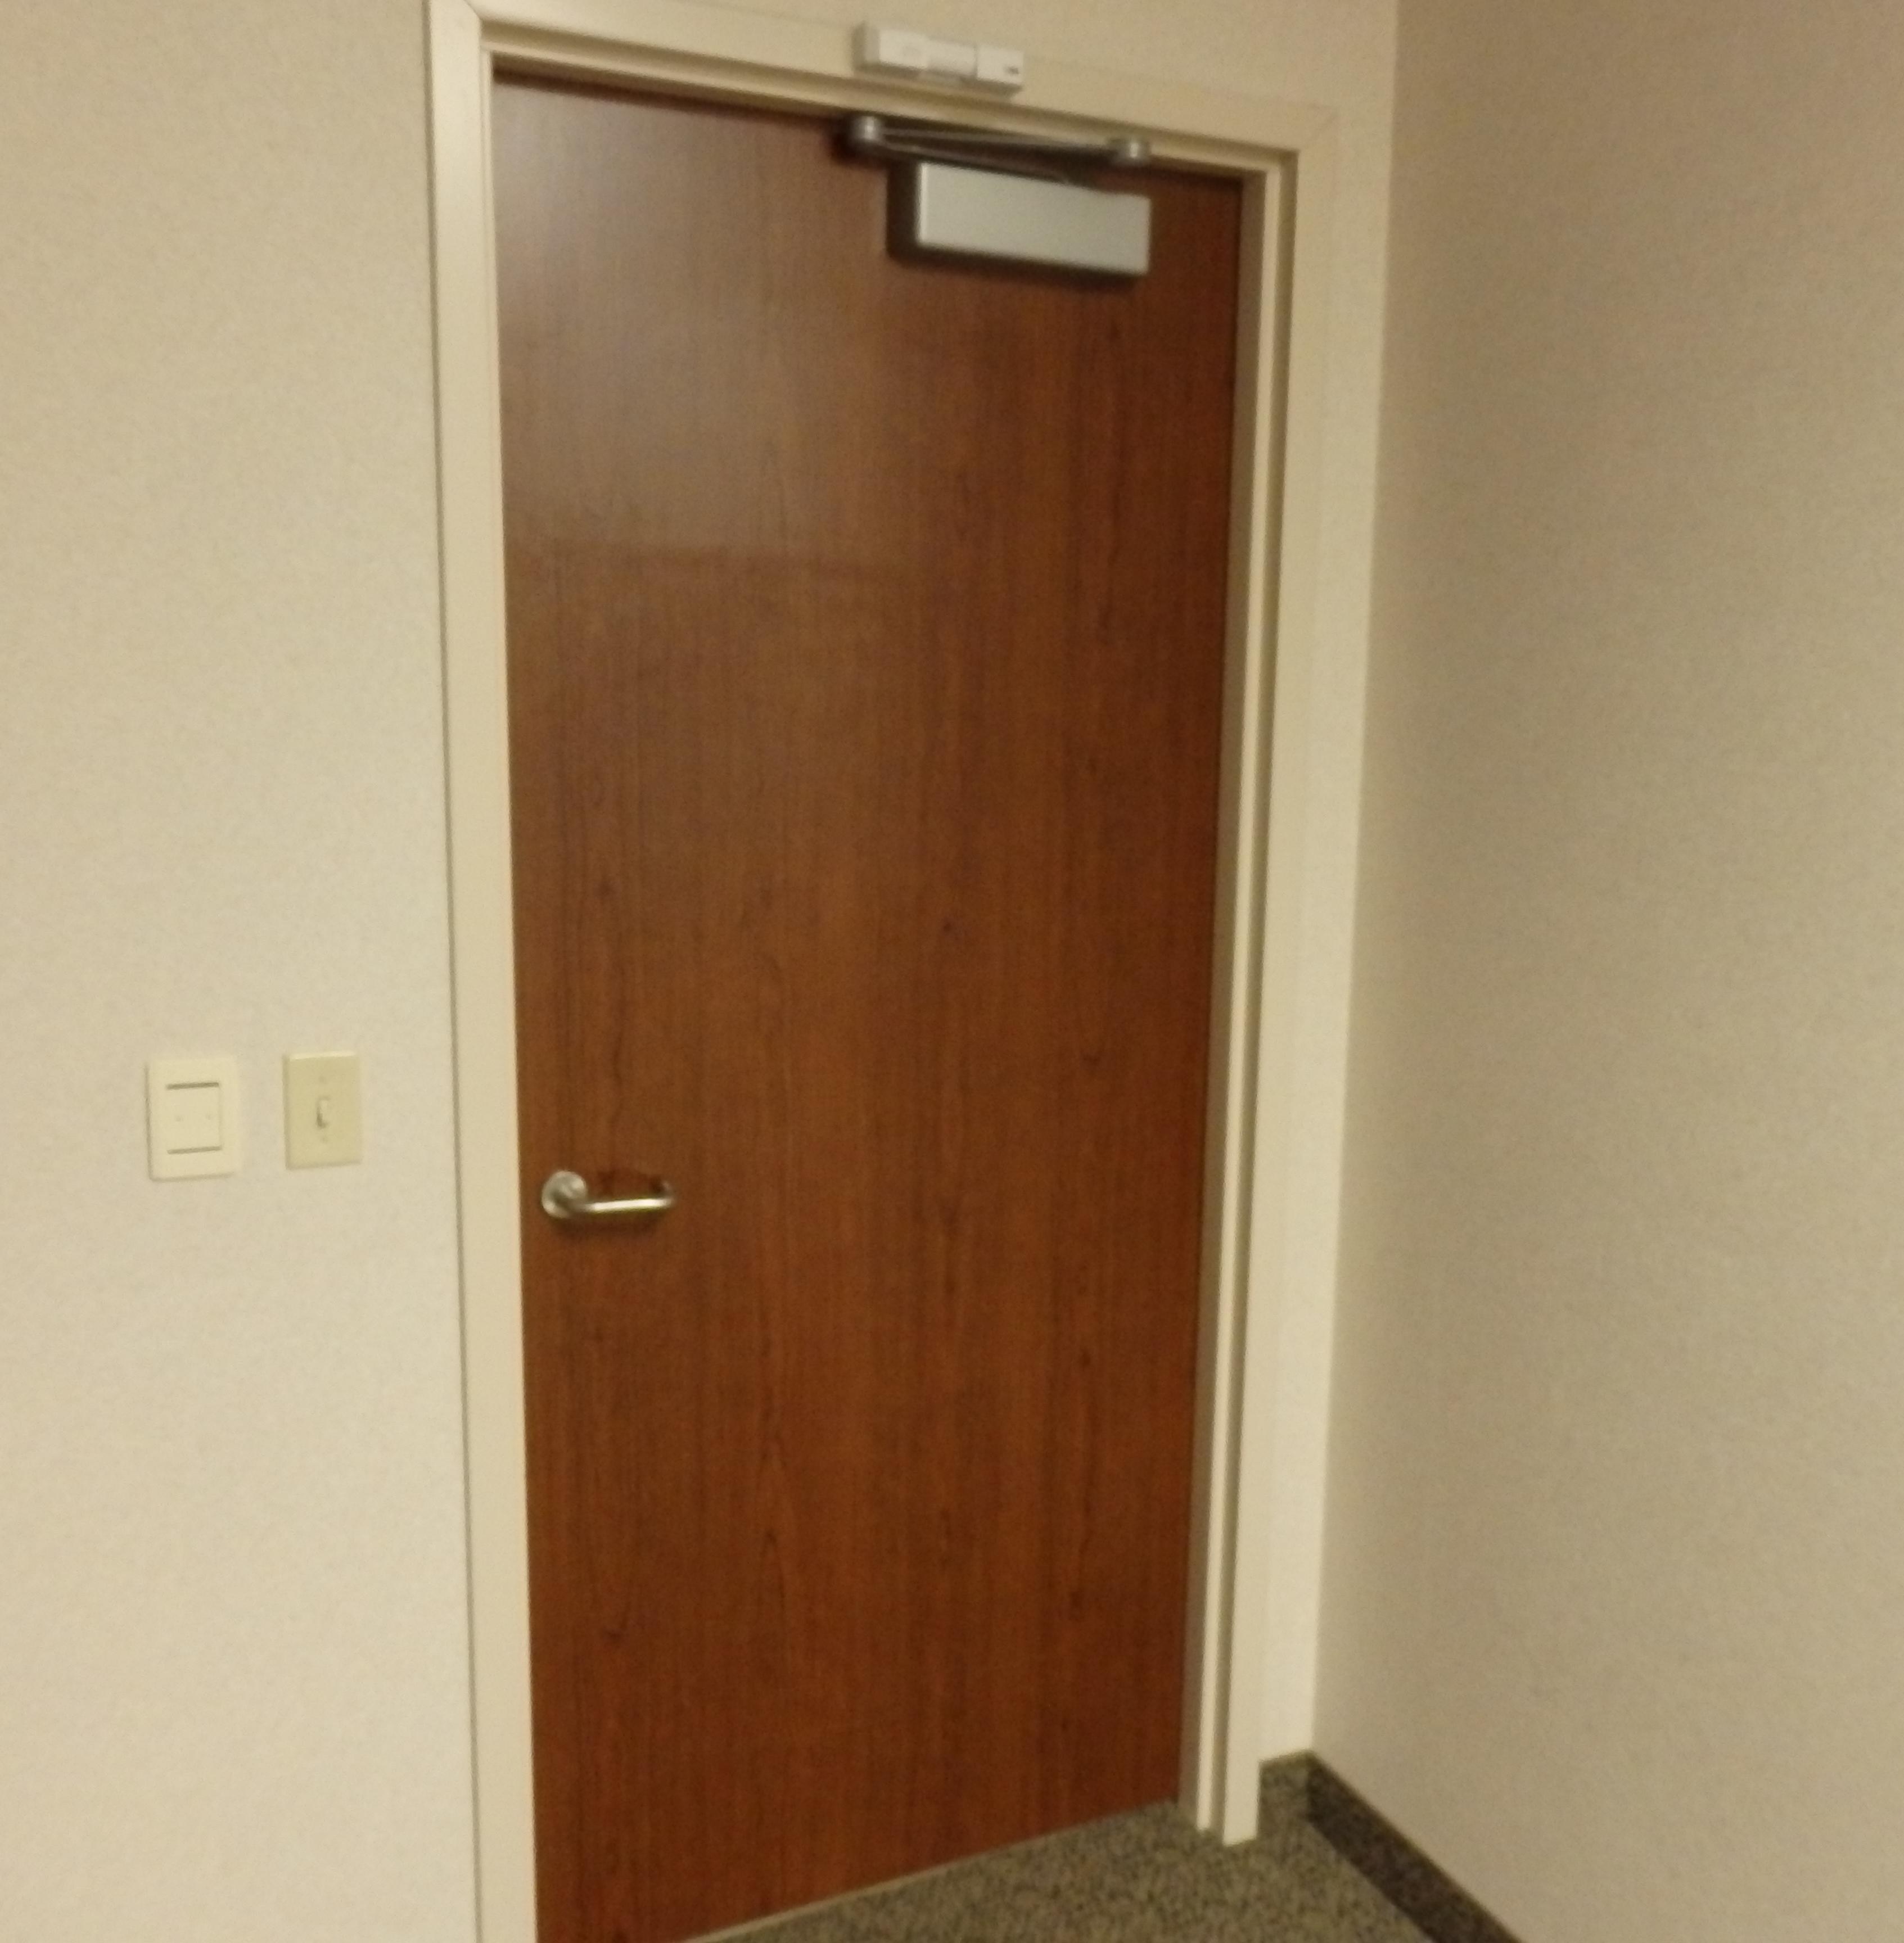door: (478, 40, 1203, 1926)
